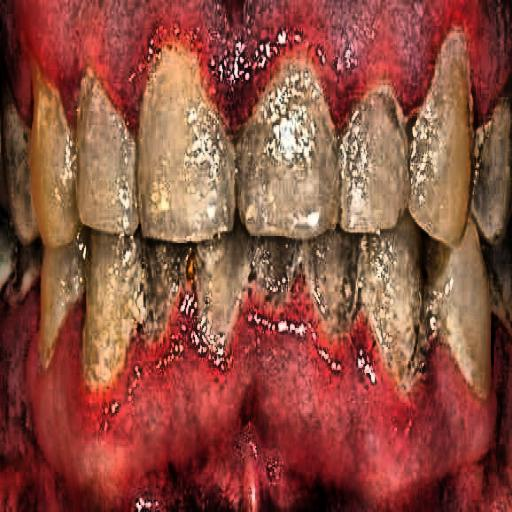Gingivitis: (246, 281, 494, 506), (4, 284, 161, 495)
